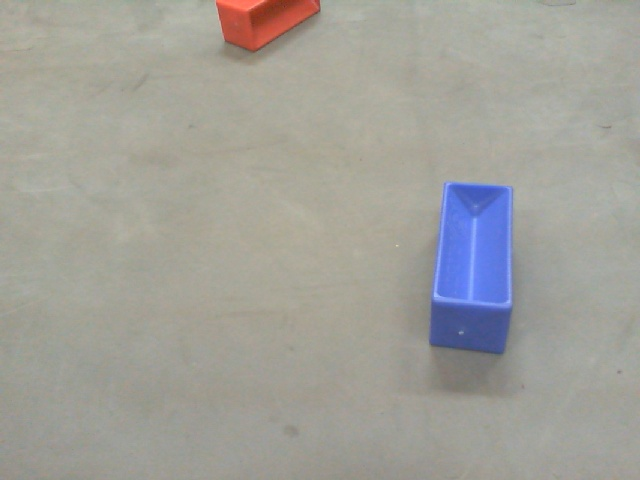BlueSample: (427, 177, 516, 357)
RedSample: (215, 1, 327, 53)
